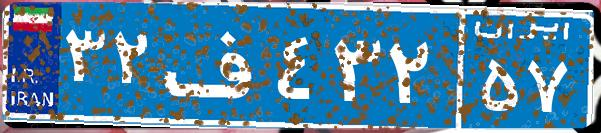2: (385, 28, 445, 110), (110, 28, 158, 105)
3: (330, 28, 385, 110), (57, 26, 110, 107)
4: (273, 28, 330, 110)
5: (475, 38, 525, 113)
7: (525, 38, 570, 115)
ف: (158, 15, 273, 115)
